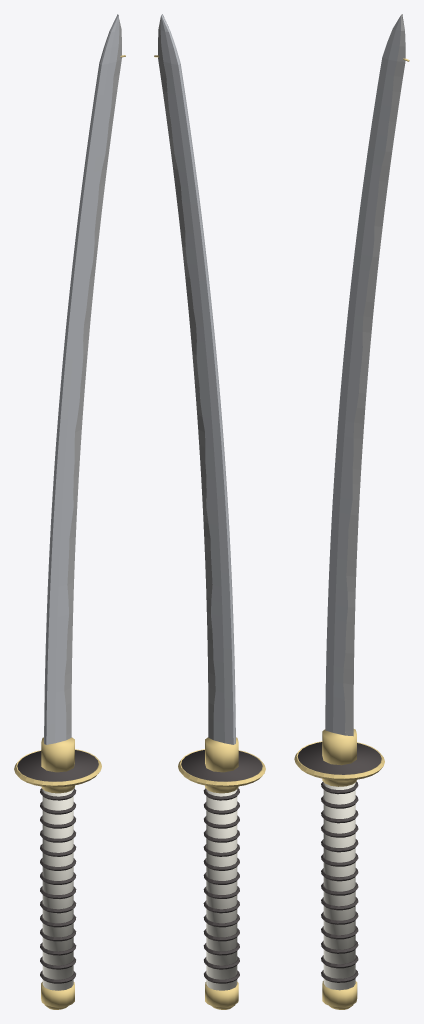
File: w_katana.glb
The picture shows the model from 3 angles, left to right: view 1: azimuth 30°, elevation 25°; view 2: azimuth 150°, elevation 25°; view 3: azimuth 330°, elevation 25°; orthographic projection. The views are drawn at different scales.
Parts seen in each view (by area): view 1: G_w_katana; view 2: G_w_katana; view 3: G_w_katana.
Boxes of the visible parts, x1=… form: G_w_katana: x1=14, y1=14, x2=125, y2=1009; G_w_katana: x1=154, y1=14, x2=265, y2=1009; G_w_katana: x1=294, y1=14, x2=409, y2=1009.
Size of the model in its own units: 0.1327 by 1.17 by 0.0886.
